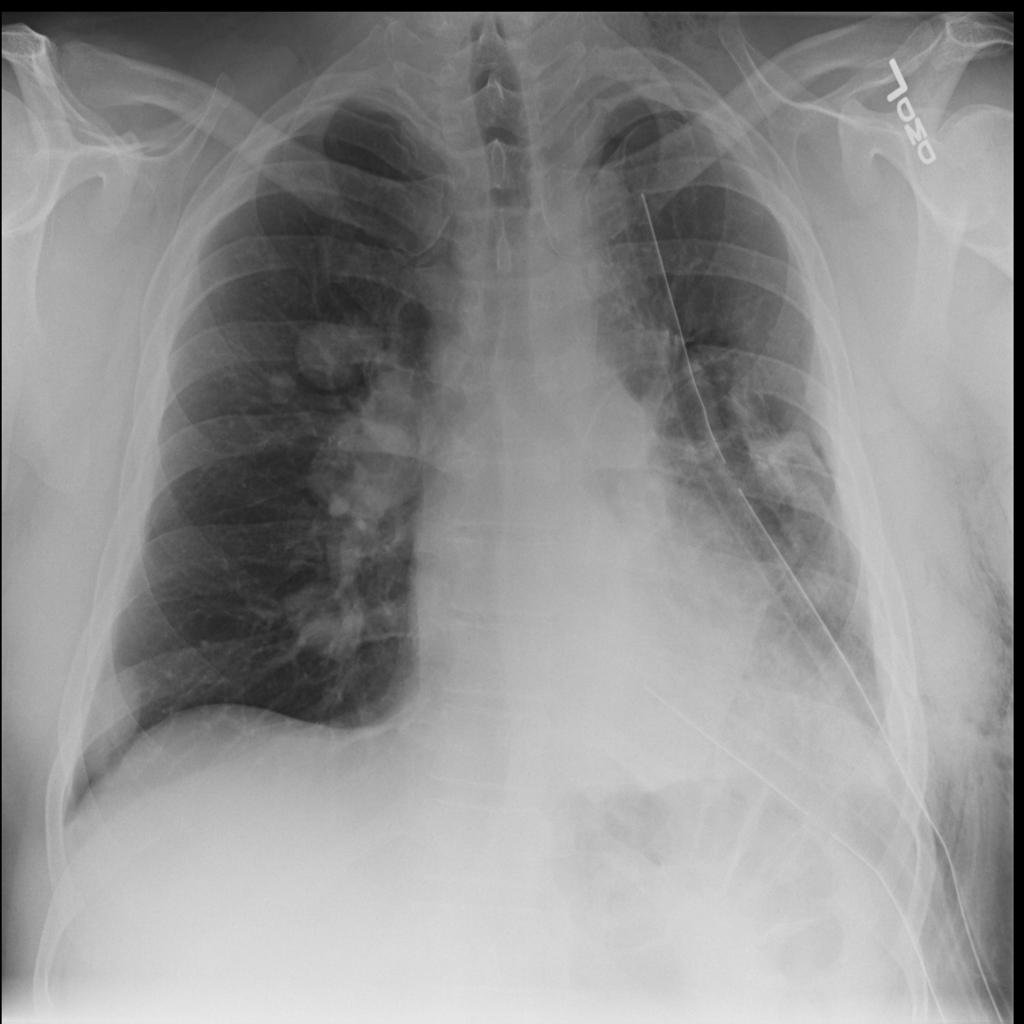nodule: (298, 377, 457, 548), (279, 566, 387, 678), (283, 304, 388, 402)
